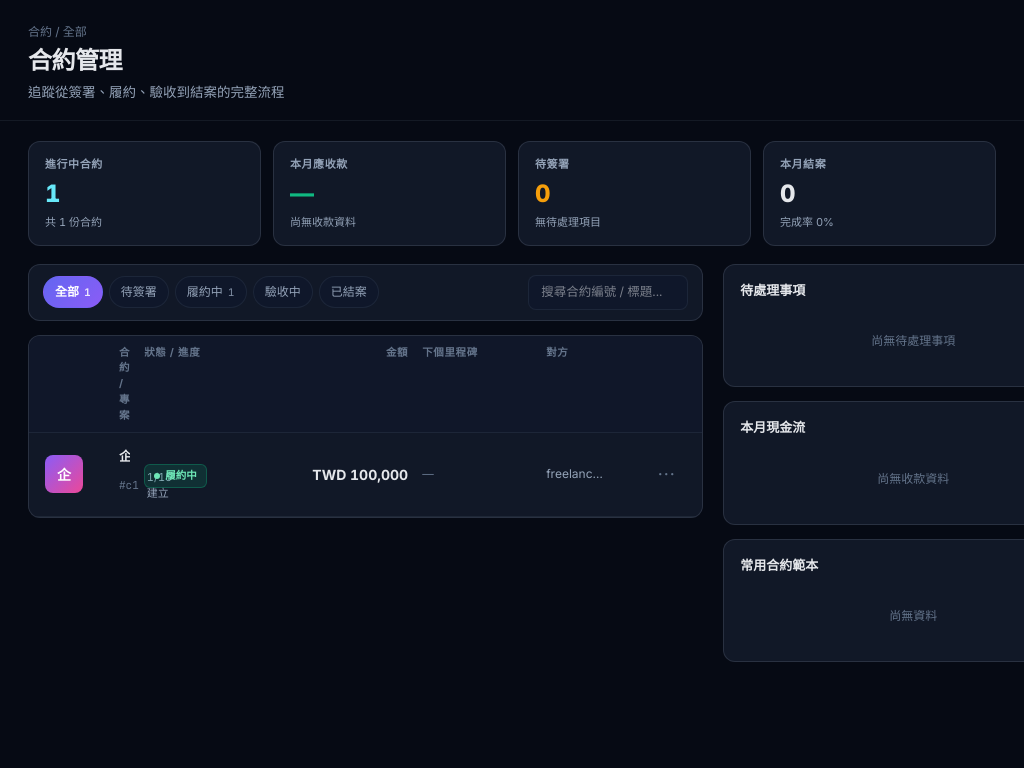
MyContractsPage › (interaction-3) shows "找不到符合的合約" when search has no matches
Type "NOMATCH_XYZ" into the search field labelled "搜尋合約" at (608, 292), box top-left (528, 275), bottom-right (688, 310)
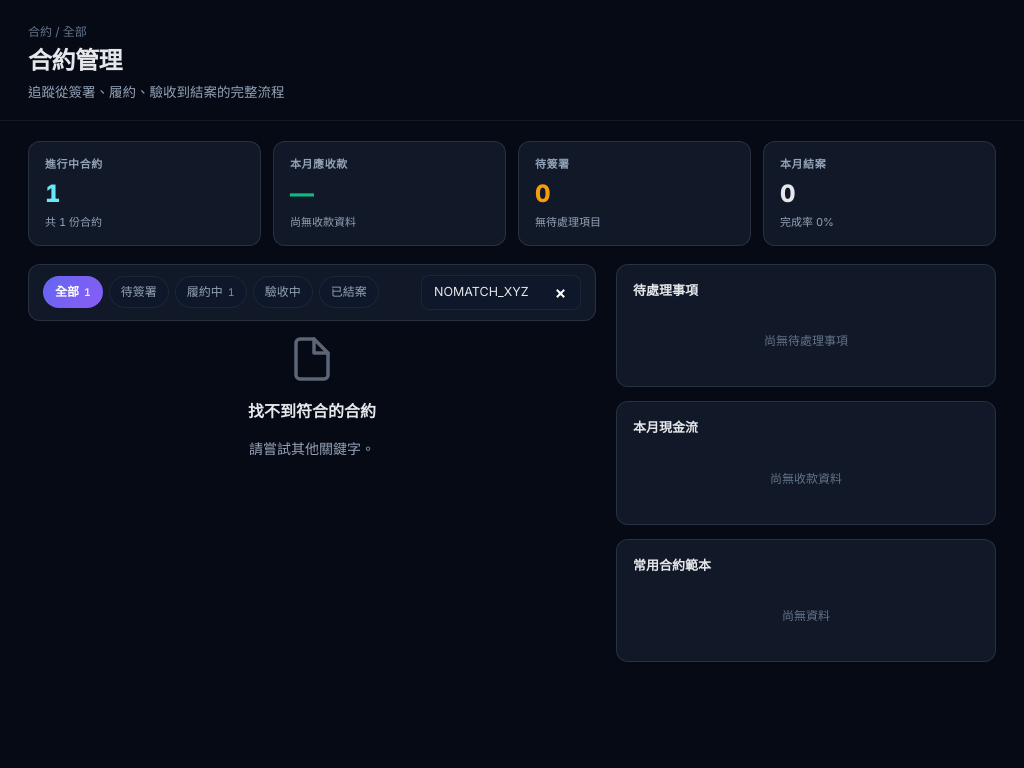
Check: the text "找不到符合的合約" is shown, box top-left (248, 399), bottom-right (376, 423)
